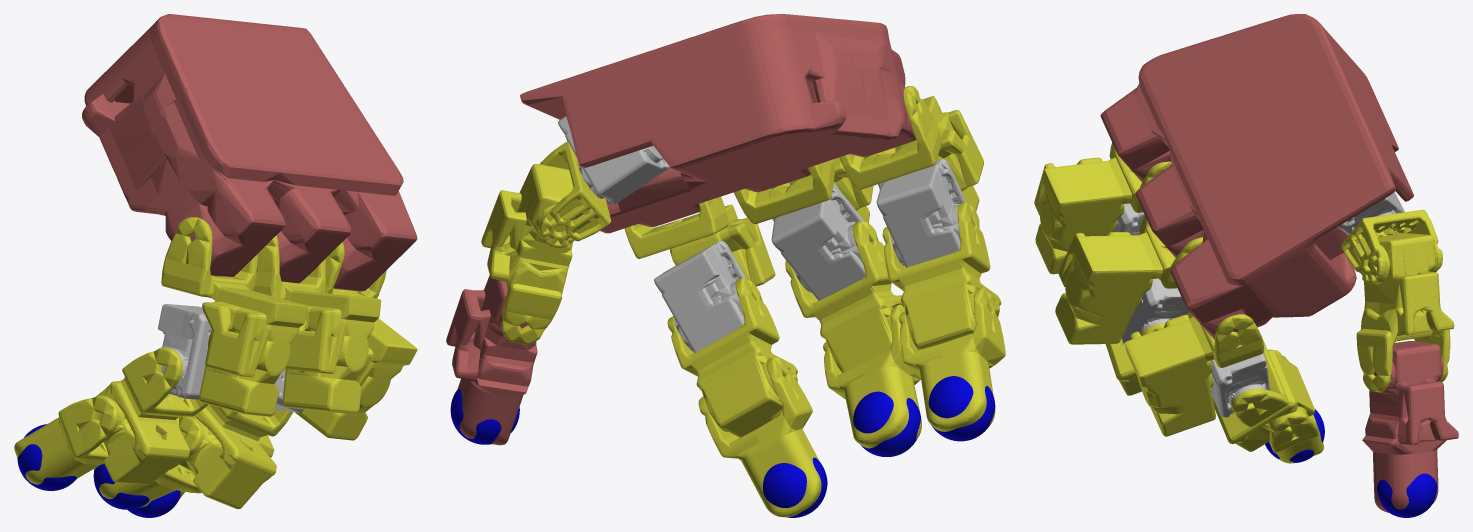
File: hand.glb
3 views of the same model, side by side, from view 1: azimuth 30°, elevation 25°; view 2: azimuth 150°, elevation 25°; view 3: azimuth 270°, elevation 25° (orthographic). The views are drawn at different scales.
Visible parts, largest first — view 1: world; view 2: world; view 3: world.
Part boxes in pixels (x1,y1,x2,y2): world: (14, 14, 417, 517); world: (446, 14, 1005, 517); world: (1034, 14, 1458, 517).
Bounding box in the file's own units: 0.1986 × 0.2135 × 0.1812.
